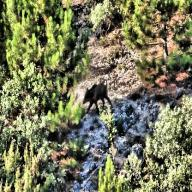boar: (81, 80, 118, 122)
